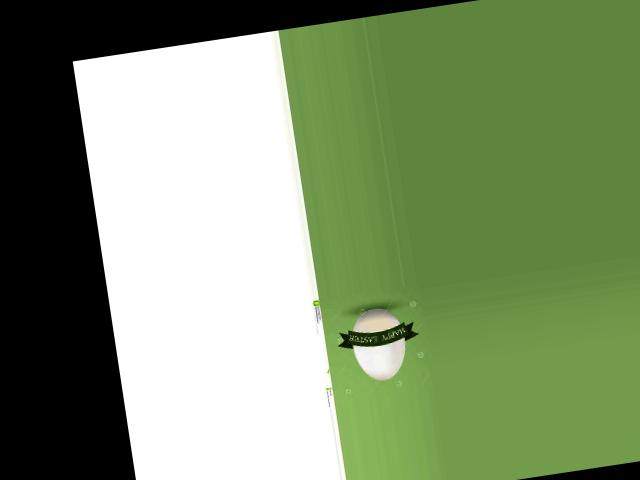egg: (347, 305, 409, 384)
